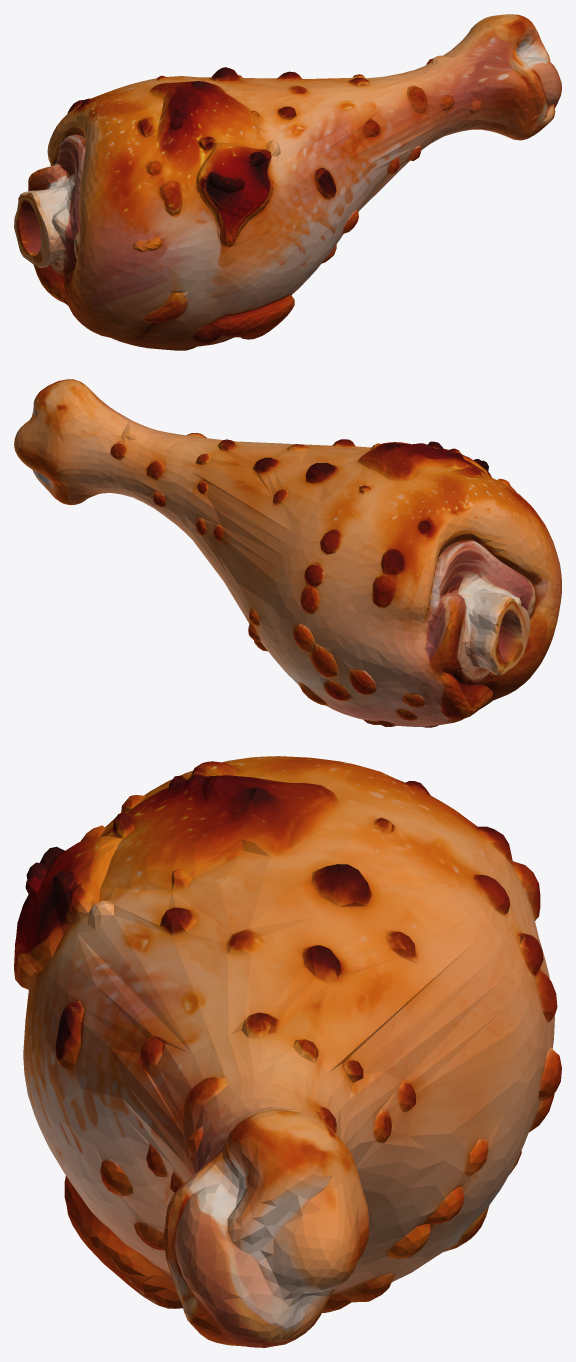
The model's file is JiTui_01.fbx.
3 views of the same model, one above another, from view 1: azimuth 30°, elevation 25°; view 2: azimuth 150°, elevation 25°; view 3: azimuth 270°, elevation 25° (orthographic). The views are drawn at different scales.
Visible parts, largest first — view 1: material; view 2: material; view 3: material.
Boxes of the visible parts, bbox=[...] form: material: bbox=[14, 14, 561, 350]; material: bbox=[14, 379, 561, 727]; material: bbox=[14, 756, 561, 1347].
Bounding box in the file's own units: 0.019 × 0.00968 × 0.00932.
1 material, 1 textured.
